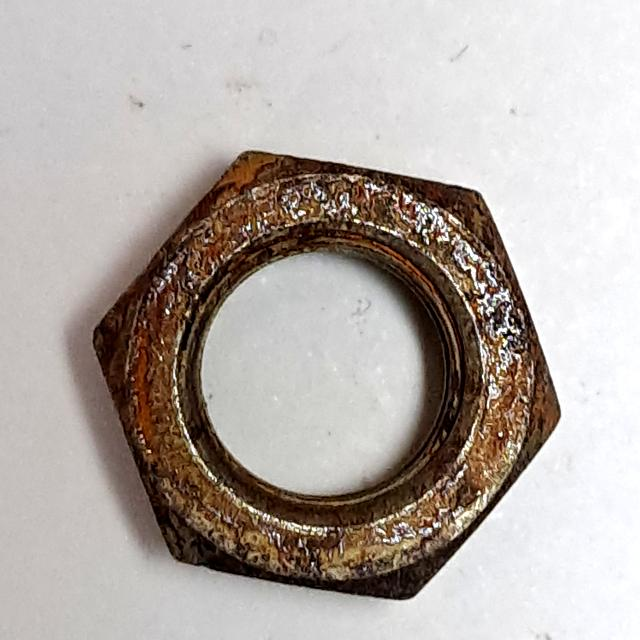Rust: (83, 134, 576, 615)
